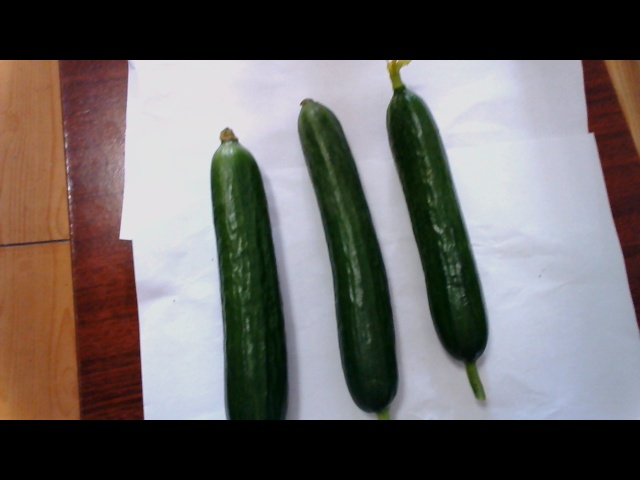cucumber: (388, 62, 507, 394), (295, 97, 400, 415), (193, 128, 293, 417)
